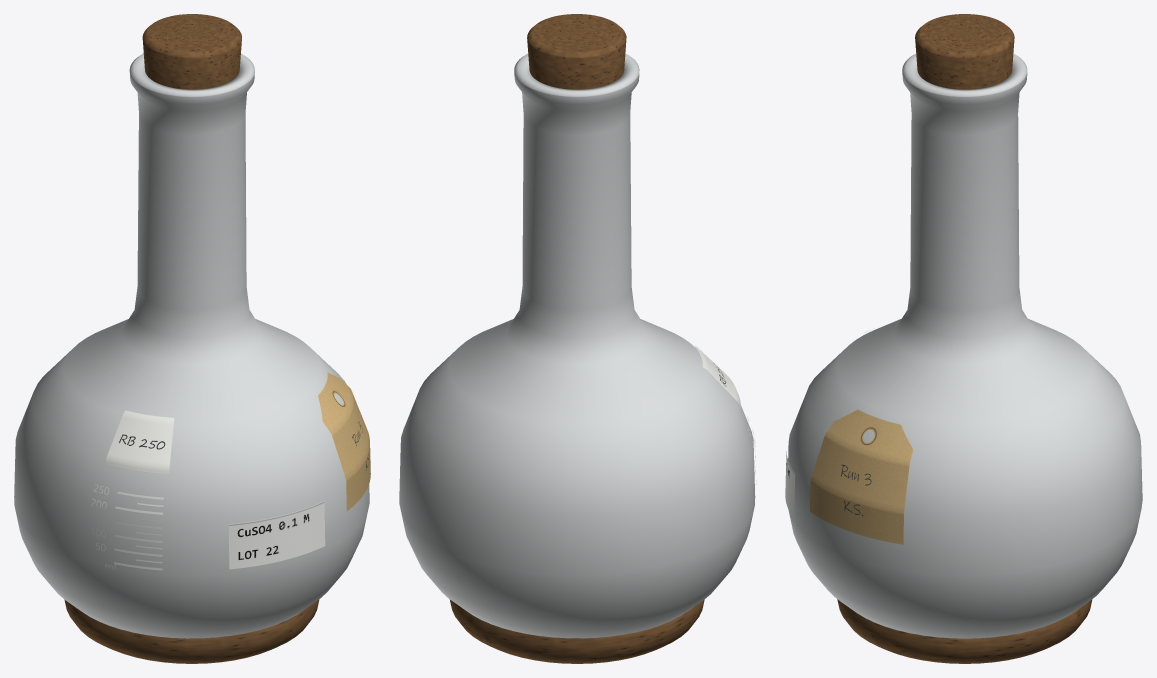
The model's file is v2_roundflask_lab.glb.
3 renders of one model, left to right at view 1: azimuth 30°, elevation 25°; view 2: azimuth 150°, elevation 25°; view 3: azimuth 270°, elevation 25°, orthographic.
Visible parts, largest first — view 1: Glass, Cap, Stand, Label_grad, Label_tag, Label_tag_hand; view 2: Glass, Cap, Stand, Label_grad; view 3: Glass, Label_tag_hand, Cap, Stand.
Part boxes in pixels (<box>): Glass: <box>14,53,369,638</box>; Cap: <box>142,14,241,89</box>; Stand: <box>64,599,319,663</box>; Label_grad: <box>91,410,174,571</box>; Label_tag: <box>229,501,325,569</box>; Label_tag_hand: <box>318,372,370,511</box>; Glass: <box>399,53,755,638</box>; Cap: <box>527,14,626,89</box>; Stand: <box>449,599,704,663</box>; Label_grad: <box>694,345,756,484</box>; Glass: <box>788,53,1142,638</box>; Label_tag_hand: <box>810,409,913,544</box>; Cap: <box>915,14,1014,89</box>; Stand: <box>837,599,1092,663</box>.
Bounding box in the file's own units: 0.0859 × 0.156 × 0.0862.
Materials: 7 (5 with a texture image).
